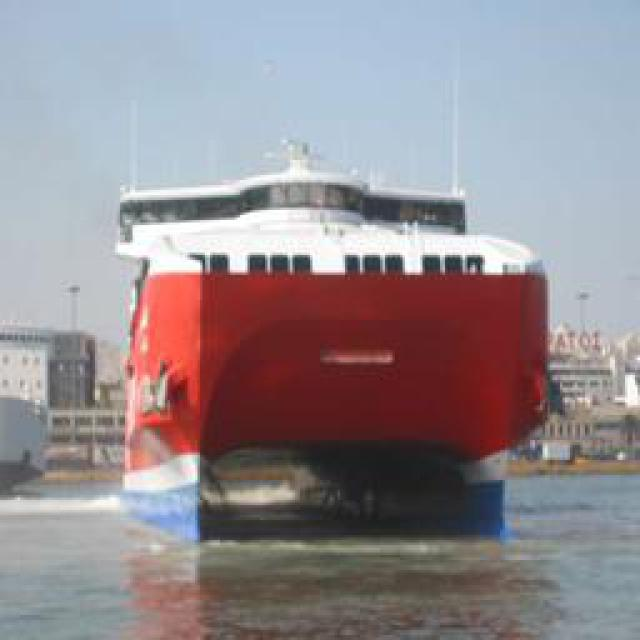Ship: (107, 35, 565, 555)
